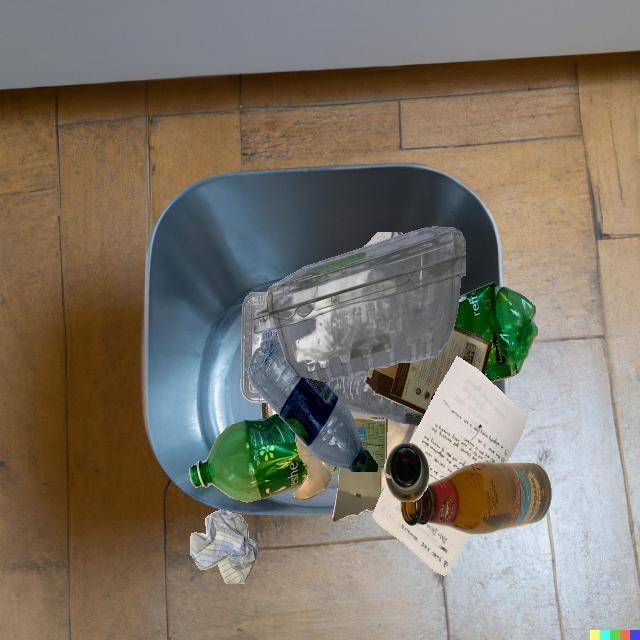cardboard: (366, 325, 492, 414), (332, 411, 388, 522)
glass: (400, 463, 552, 535), (383, 443, 429, 502), (292, 433, 332, 500), (261, 402, 277, 419), (363, 247, 363, 247)
paper: (410, 356, 528, 485), (373, 485, 469, 575), (190, 510, 258, 584), (363, 232, 403, 247)
plastic: (254, 226, 466, 383), (248, 335, 377, 472), (189, 413, 308, 502), (454, 282, 538, 382), (324, 371, 425, 426), (241, 292, 278, 403)
